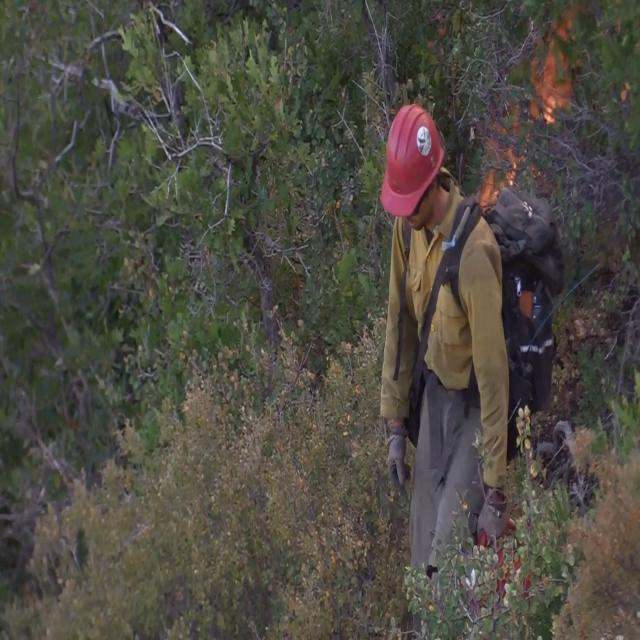Fire: (475, 8, 578, 212)
